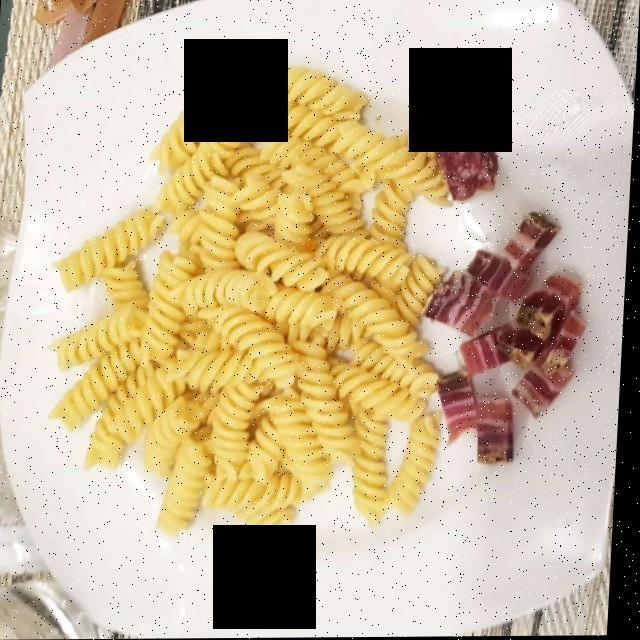bacon: (420, 113, 589, 465)
pasta: (48, 52, 449, 554)
